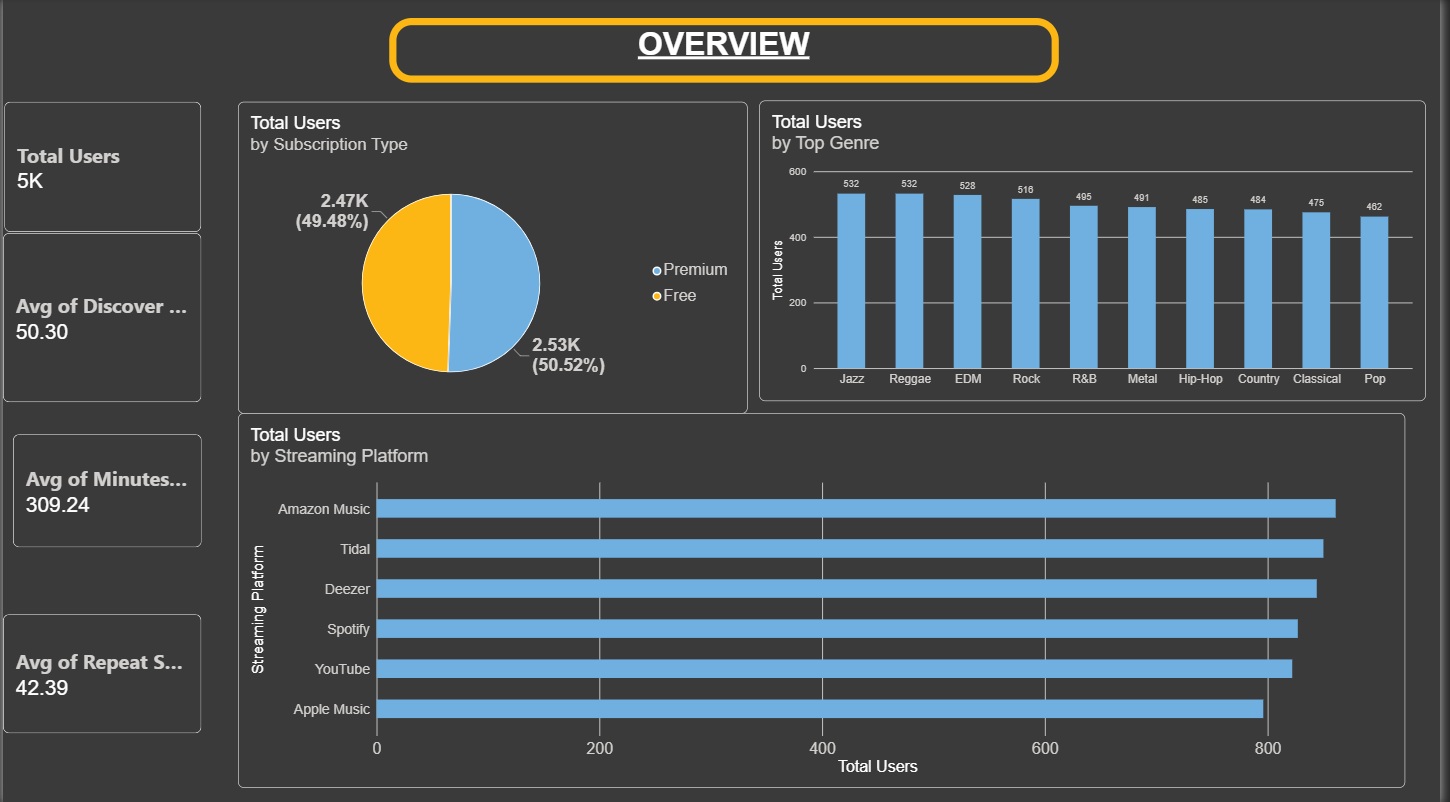

The page's visual inventory and layout, read from the dashboard file:
{"tool":"powerbi","page":{"name":"OVERVIEW","canvas":[1920,1080],"ordinal":0},"visuals":[{"type":"cardVisual","fields":{"Data":["CountNonNull(Global_Music_Streaming_Listener_Preferences.User_ID)"]},"box":[2.2,138.2,263.5,175],"z":0},{"type":"textbox","box":[516.2,25.9,894.2,86.4],"z":1000},{"type":"cardVisual","fields":{"Data":["Avg(Global_Music_Streaming_Listener_Preferences.Discover Weekly Engagement (%))"]},"box":[0,313.2,265.7,226.8],"z":2000},{"type":"cardVisual","fields":{"Data":["Avg(Global_Music_Streaming_Listener_Preferences.Repeat Song Rate (%))"]},"box":[0,823,265.7,159.8],"z":3000},{"type":"cardVisual","fields":{"Data":["Avg(Global_Music_Streaming_Listener_Preferences.Minutes Streamed Per Day)"]},"box":[13,583.2,252.7,151.2],"z":4000},{"type":"pieChart","fields":{"Category":["Global_Music_Streaming_Listener_Preferences.Subscription Type"],"Y":["CountNonNull(Global_Music_Streaming_Listener_Preferences.User_ID)"]},"box":[313.2,138.2,680.4,416.9],"z":5000},{"type":"columnChart","fields":{"Category":["Global_Music_Streaming_Listener_Preferences.Top Genre"],"Y":["CountNonNull(Global_Music_Streaming_Listener_Preferences.User_ID)"]},"box":[1009.8,137.5,890.4,401.7],"z":6000},{"type":"barChart","fields":{"Category":["Global_Music_Streaming_Listener_Preferences.Streaming Platform"],"Y":["CountNonNull(Global_Music_Streaming_Listener_Preferences.User_ID)"]},"box":[313.2,555.1,1559.5,501.1],"z":7000}]}

Visuals, with their boxes in screenshot pixels (x1, y1, x2, y2), scaled from the page's 1920x1080 canvas onto the 1450x802 screenshot:
cardVisual - CountNonNull(Global_Music_Streaming_Listener_Preferences.User_ID): (2, 103, 201, 233)
textbox: (390, 19, 1065, 83)
cardVisual - Avg(Global_Music_Streaming_Listener_Preferences.Discover Weekly Engagement (%)): (0, 233, 201, 401)
cardVisual - Avg(Global_Music_Streaming_Listener_Preferences.Repeat Song Rate (%)): (0, 611, 201, 730)
cardVisual - Avg(Global_Music_Streaming_Listener_Preferences.Minutes Streamed Per Day): (10, 433, 201, 545)
pieChart - Global_Music_Streaming_Listener_Preferences.Subscription Type x CountNonNull(Global_Music_Streaming_Listener_Preferences.User_ID): (237, 103, 750, 412)
columnChart - Global_Music_Streaming_Listener_Preferences.Top Genre x CountNonNull(Global_Music_Streaming_Listener_Preferences.User_ID): (763, 102, 1435, 400)
barChart - Global_Music_Streaming_Listener_Preferences.Streaming Platform x CountNonNull(Global_Music_Streaming_Listener_Preferences.User_ID): (237, 412, 1414, 784)
